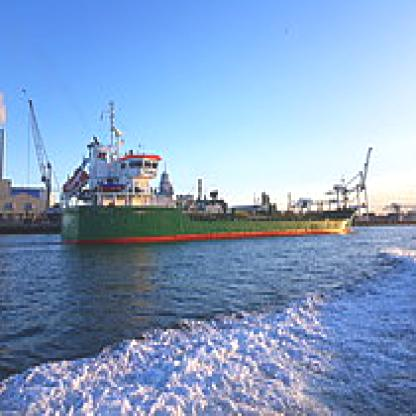Tanker: (63, 134, 360, 237)
